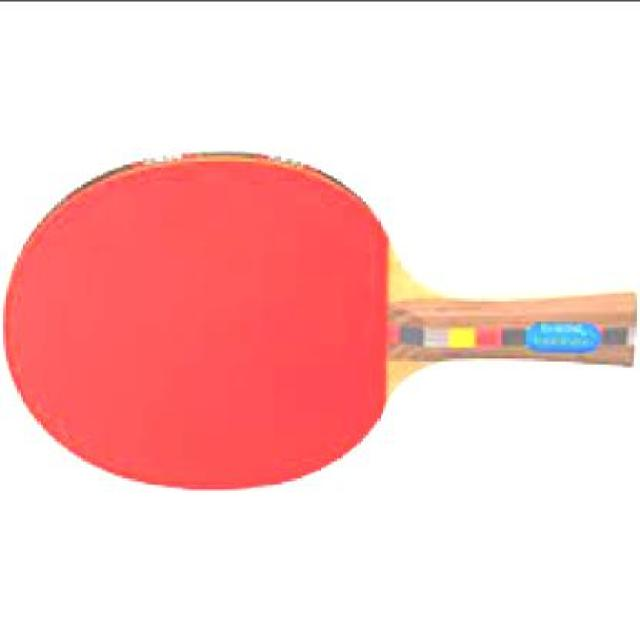table_tennis_racket: (2, 144, 416, 496)
